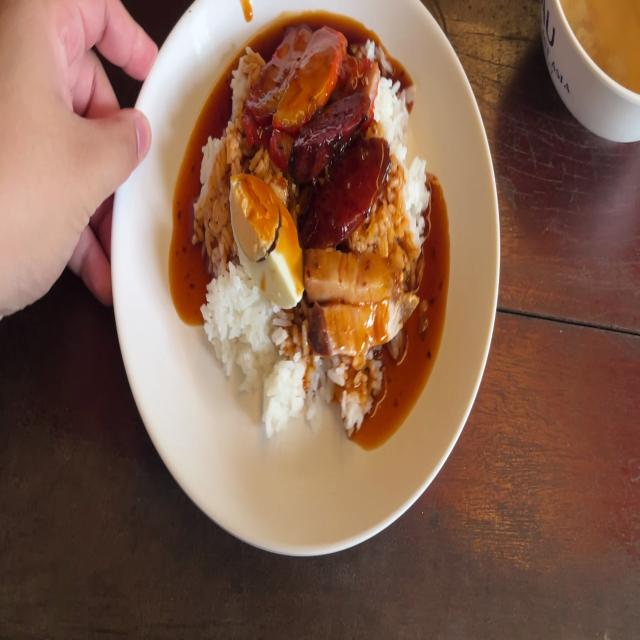red_pork_and_crispy_pork: (229, 171, 303, 302)
stir_fried_basil: (288, 93, 389, 233), (290, 84, 363, 175), (318, 147, 390, 232)
